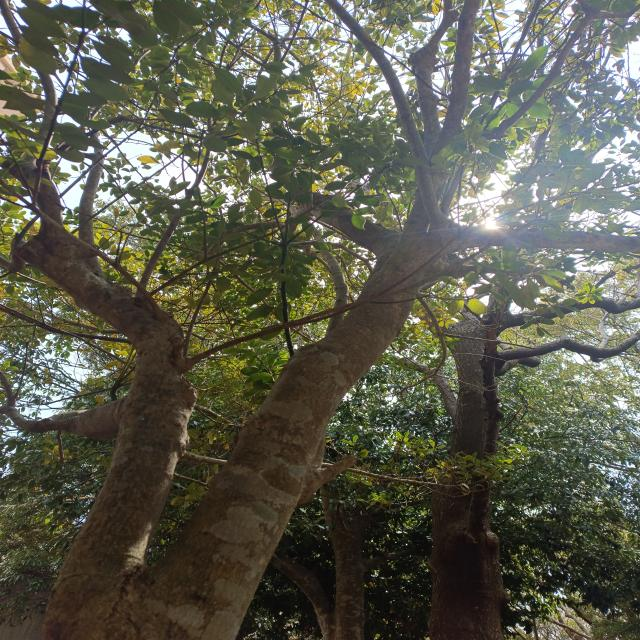Branch: (156, 235, 443, 613), (18, 231, 191, 571), (5, 394, 132, 440), (299, 192, 394, 252)
Twig: (324, 0, 460, 228), (406, 1, 482, 230), (191, 302, 358, 362), (407, 0, 460, 159), (427, 226, 640, 259), (138, 193, 190, 299), (2, 156, 61, 232), (78, 128, 107, 264), (2, 235, 28, 272)
